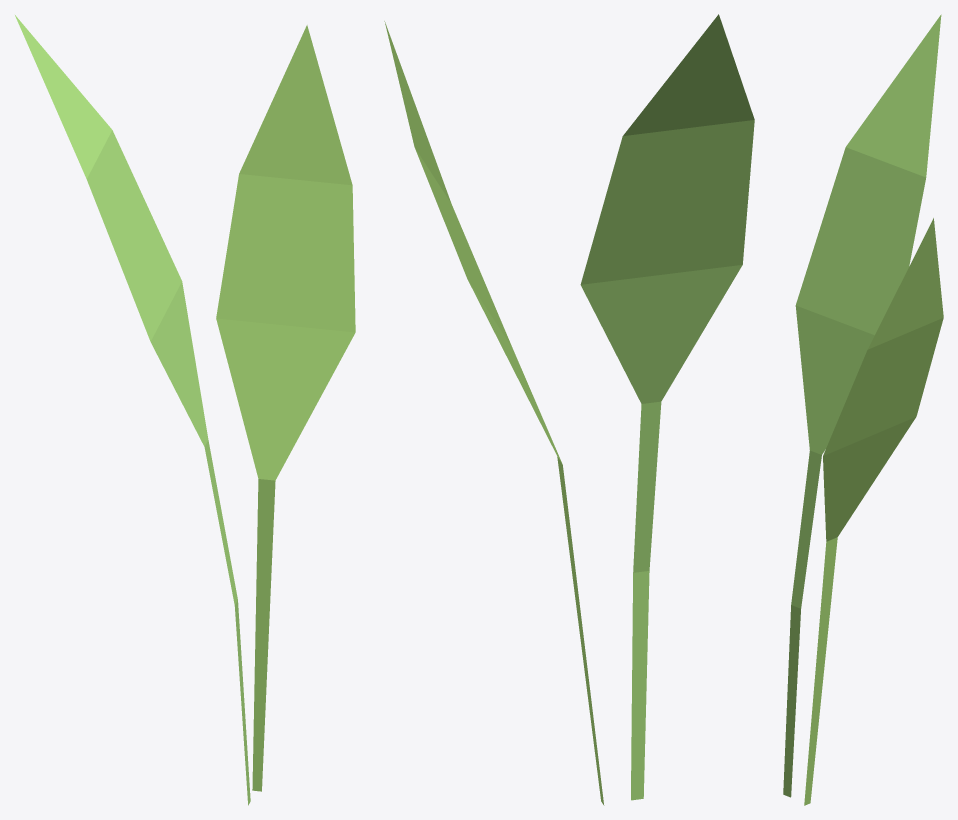
The model's file is Plant_g_OneS_02.fbx.
3 renders of one model, left to right at view 1: azimuth 30°, elevation 25°; view 2: azimuth 150°, elevation 25°; view 3: azimuth 270°, elevation 25°, orthographic. The views are drawn at different scales.
Visible parts, largest first — view 1: Plant_g_OneS_02; view 2: Plant_g_OneS_02; view 3: Plant_g_OneS_02.
Part boxes in pixels (bbox=[...]): Plant_g_OneS_02: bbox=[15, 15, 355, 805]; Plant_g_OneS_02: bbox=[384, 14, 754, 805]; Plant_g_OneS_02: bbox=[783, 14, 943, 805].
Size of the model in its own units: 0.2667 by 0.6538 by 0.1334.
